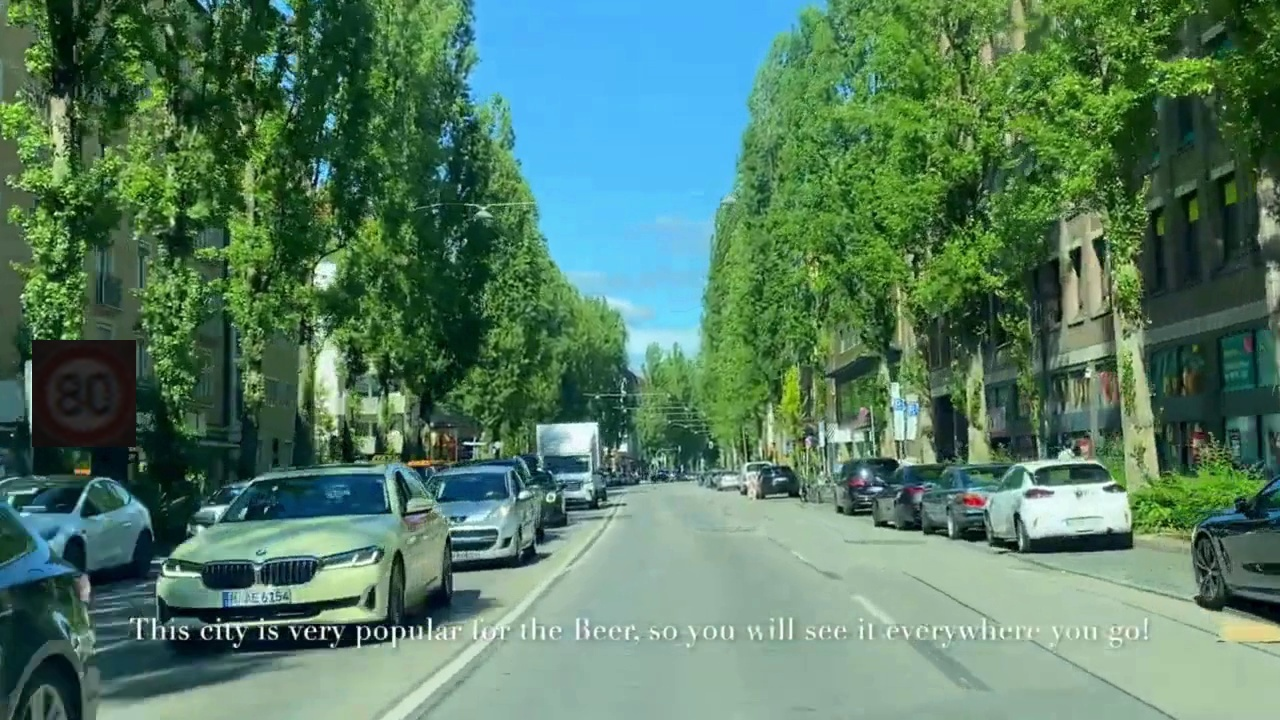Speed 80: (32, 340, 136, 447)
